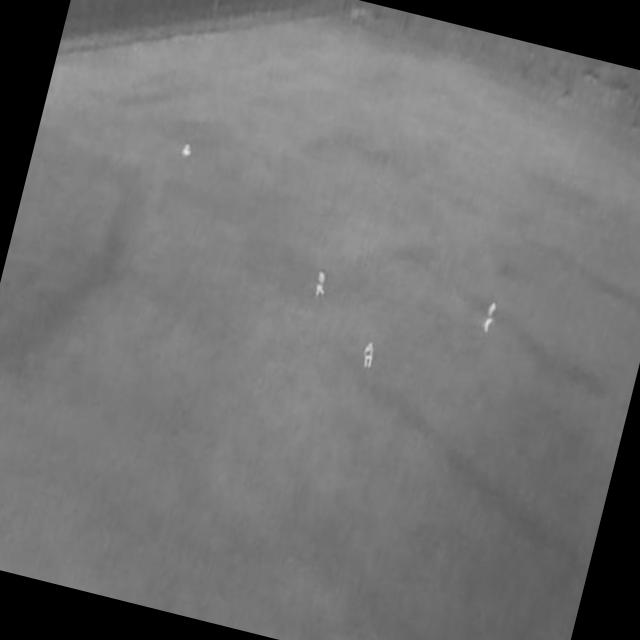person: (480, 301, 498, 336), (313, 269, 330, 301), (361, 342, 378, 371), (181, 142, 193, 159)
